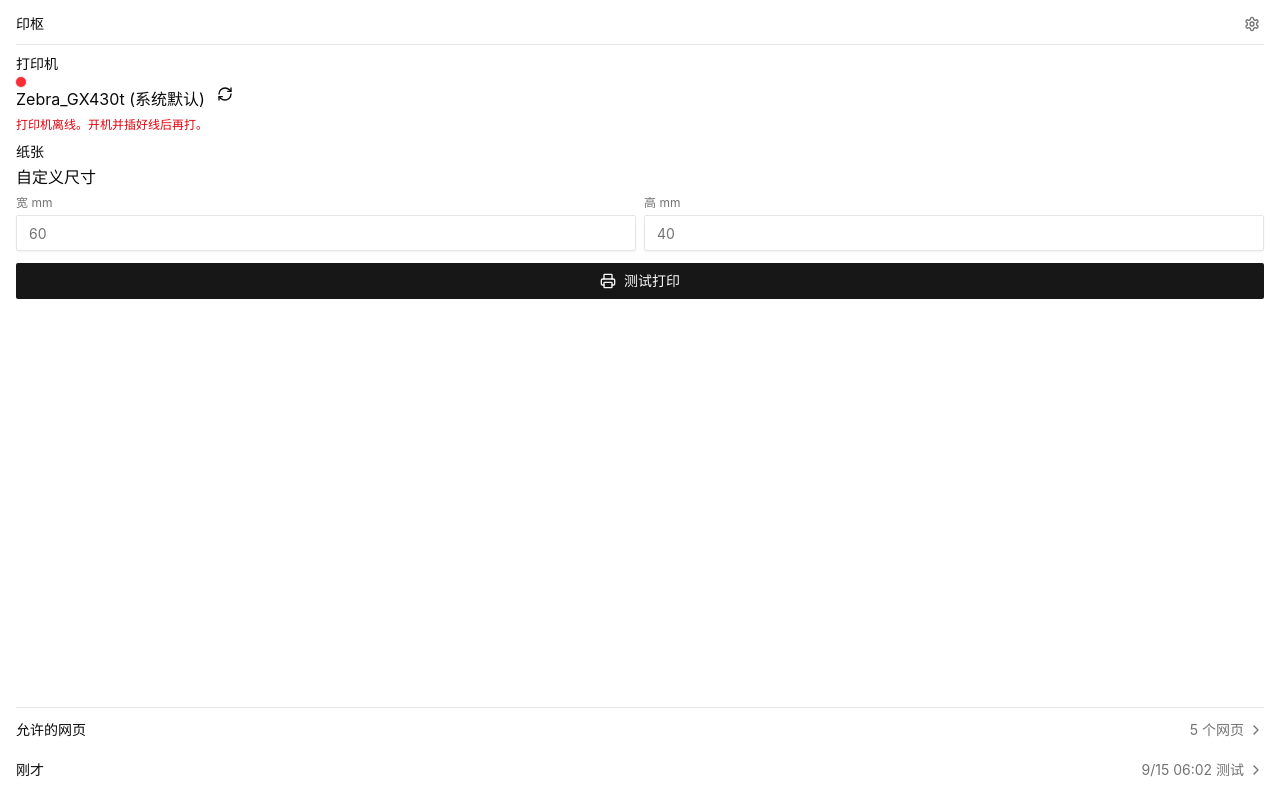
App 工位面板 › 加网站只在名单内滚动，不挤动打印、最近和更多
The width and height of the screenshot is (1280, 800).
Click the button with test id "access-toggle" at point(51, 730), box [16, 712, 1264, 748]
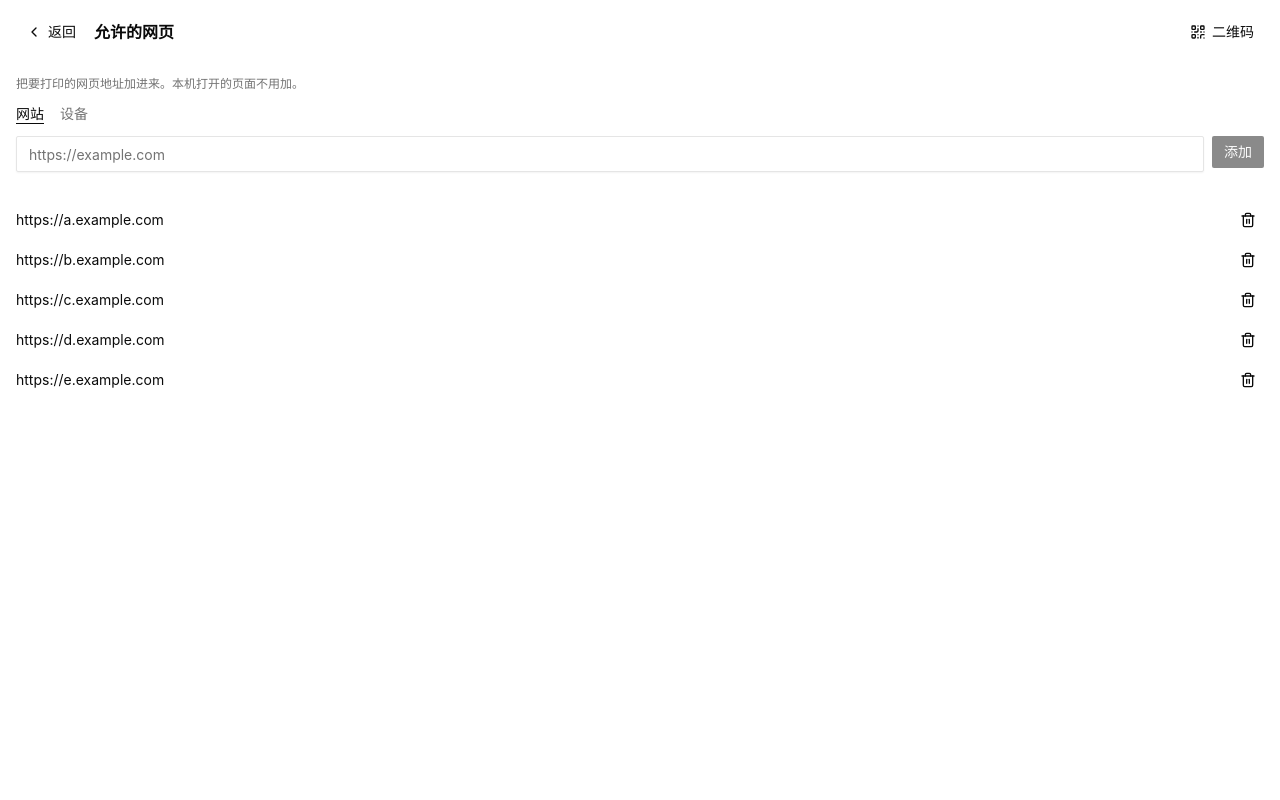
Check: the element with test id "print-section" shows "打印", box [16, 57, 1264, 299]
Check: the element with test id "origin-list" shows "https://e.example.com", box [16, 371, 164, 388]
